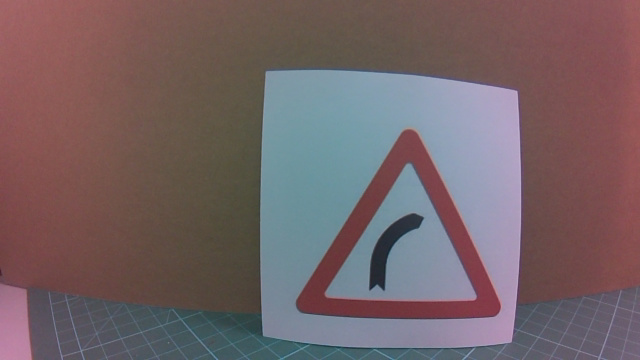right: (300, 154, 500, 330)
